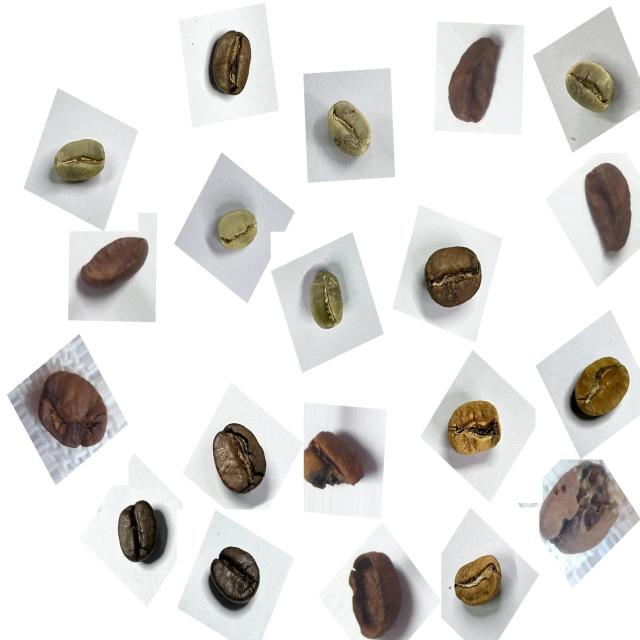bad: (531, 453, 634, 566), (26, 359, 117, 462), (438, 29, 514, 140), (336, 542, 414, 640), (575, 154, 640, 266), (71, 227, 155, 311), (299, 416, 378, 501)
dark: (202, 533, 272, 619), (106, 488, 174, 575)
green: (316, 91, 385, 174), (554, 49, 626, 128), (294, 259, 357, 345), (43, 124, 115, 199), (206, 200, 268, 266)
light: (561, 346, 638, 434), (440, 388, 515, 474), (446, 543, 514, 622)
medium: (201, 414, 279, 506), (414, 236, 492, 324), (198, 22, 266, 109)
